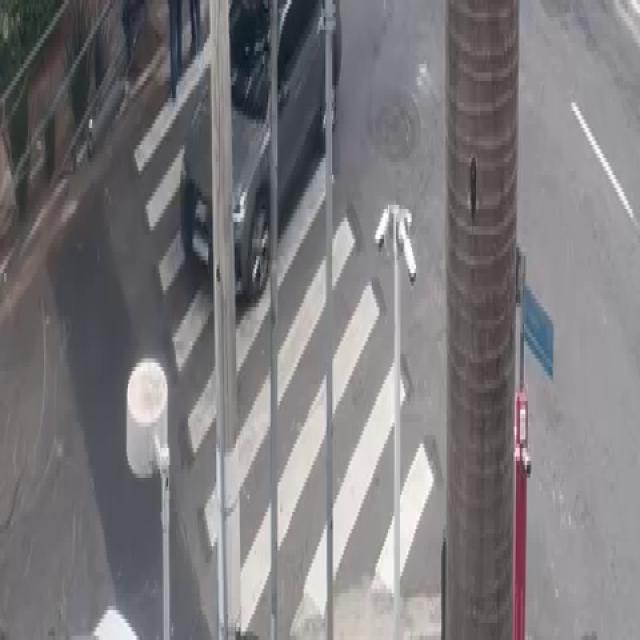car: (166, 0, 350, 303)
